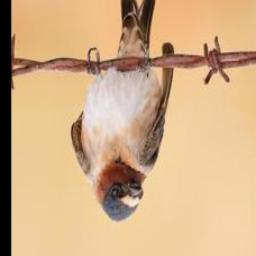Swallow: (71, 0, 175, 225)
